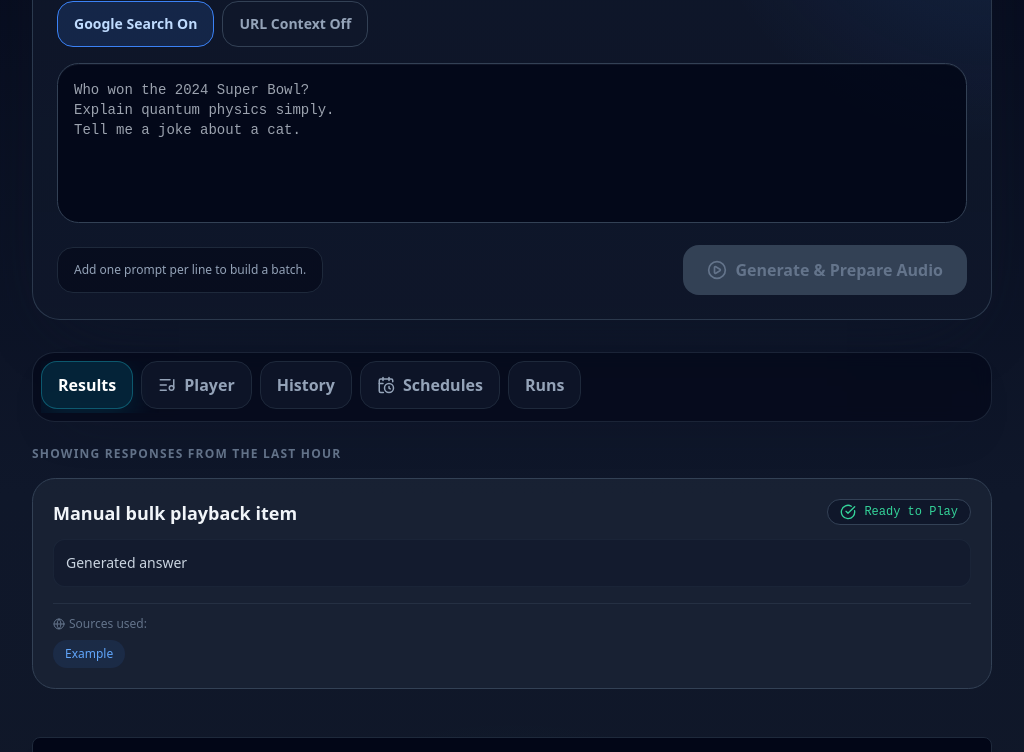
Test case: App button regression coverage › starts bulk playback for a checked manual item and keeps it active after the next render tick
(page scrolled)
Click the button "player" at (196, 384), box [141, 360, 252, 408]
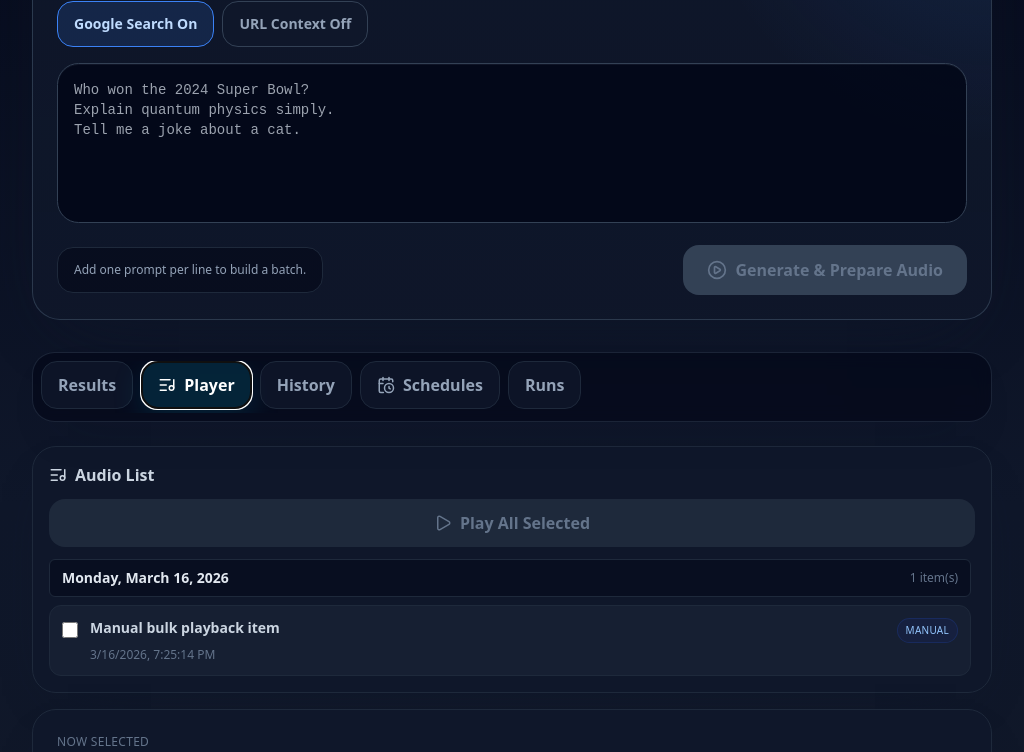
Click the checkbox named "select player item manual bulk playback item" at (70, 630), box [62, 622, 78, 638]
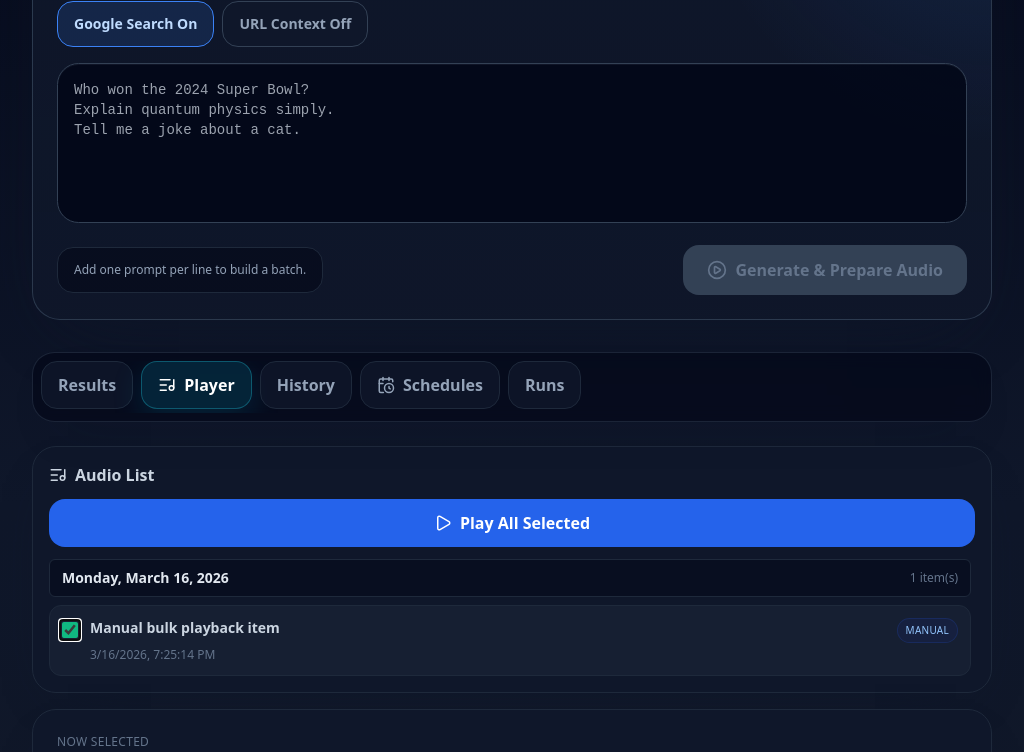
Click the button "Play All Selected" at (512, 522), box [49, 498, 975, 546]
(page scrolled)
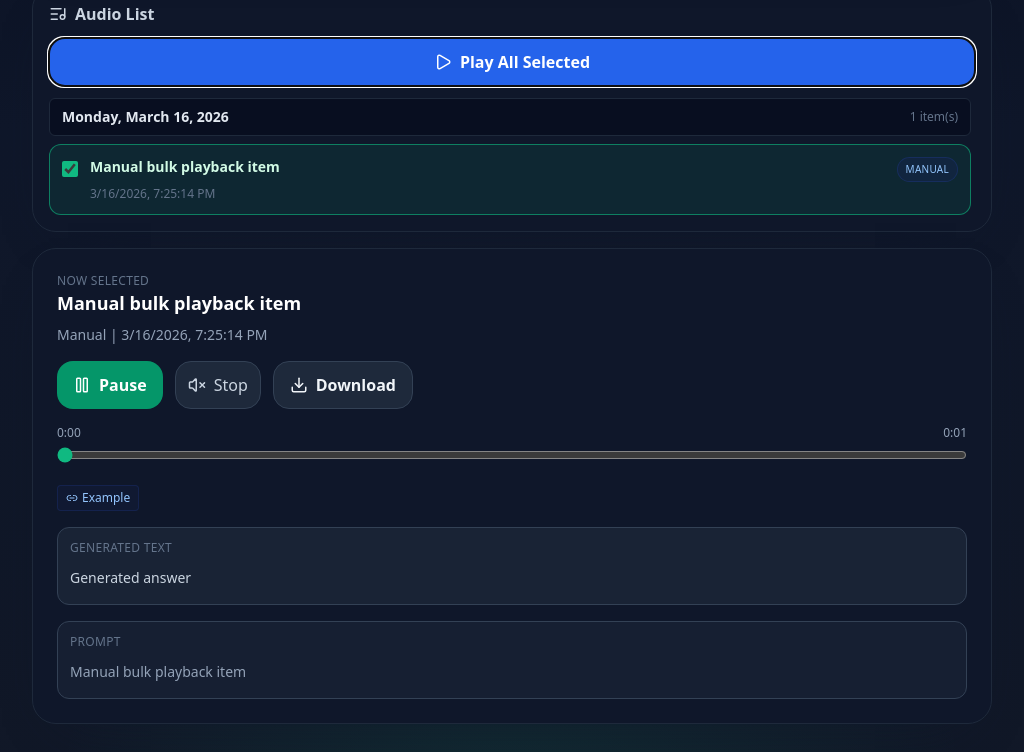
Check: the heading "Manual bulk playback item" is shown, box [57, 290, 301, 314]
Check: the button "Pause" is shown, box [57, 360, 163, 408]
